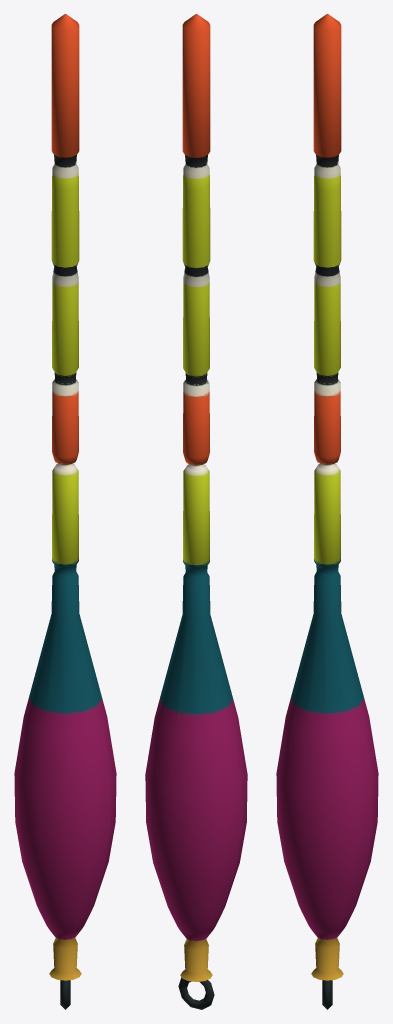
The picture shows the model from 3 angles, left to right: view 1: azimuth 90°, elevation 25°; view 2: azimuth 150°, elevation 25°; view 3: azimuth 270°, elevation 25°; orthographic projection.
Parts seen in each view (by area): view 1: F20_Float; view 2: F20_Float; view 3: F20_Float.
Part boxes in pixels (x1,y1,x2,y2): F20_Float: (14, 14, 116, 1009); F20_Float: (145, 14, 247, 1009); F20_Float: (276, 14, 378, 1009).
Bounding box in the file's own units: 0.0261 × 0.28 × 0.0261.
Materials: 1 (1 with a texture image).
